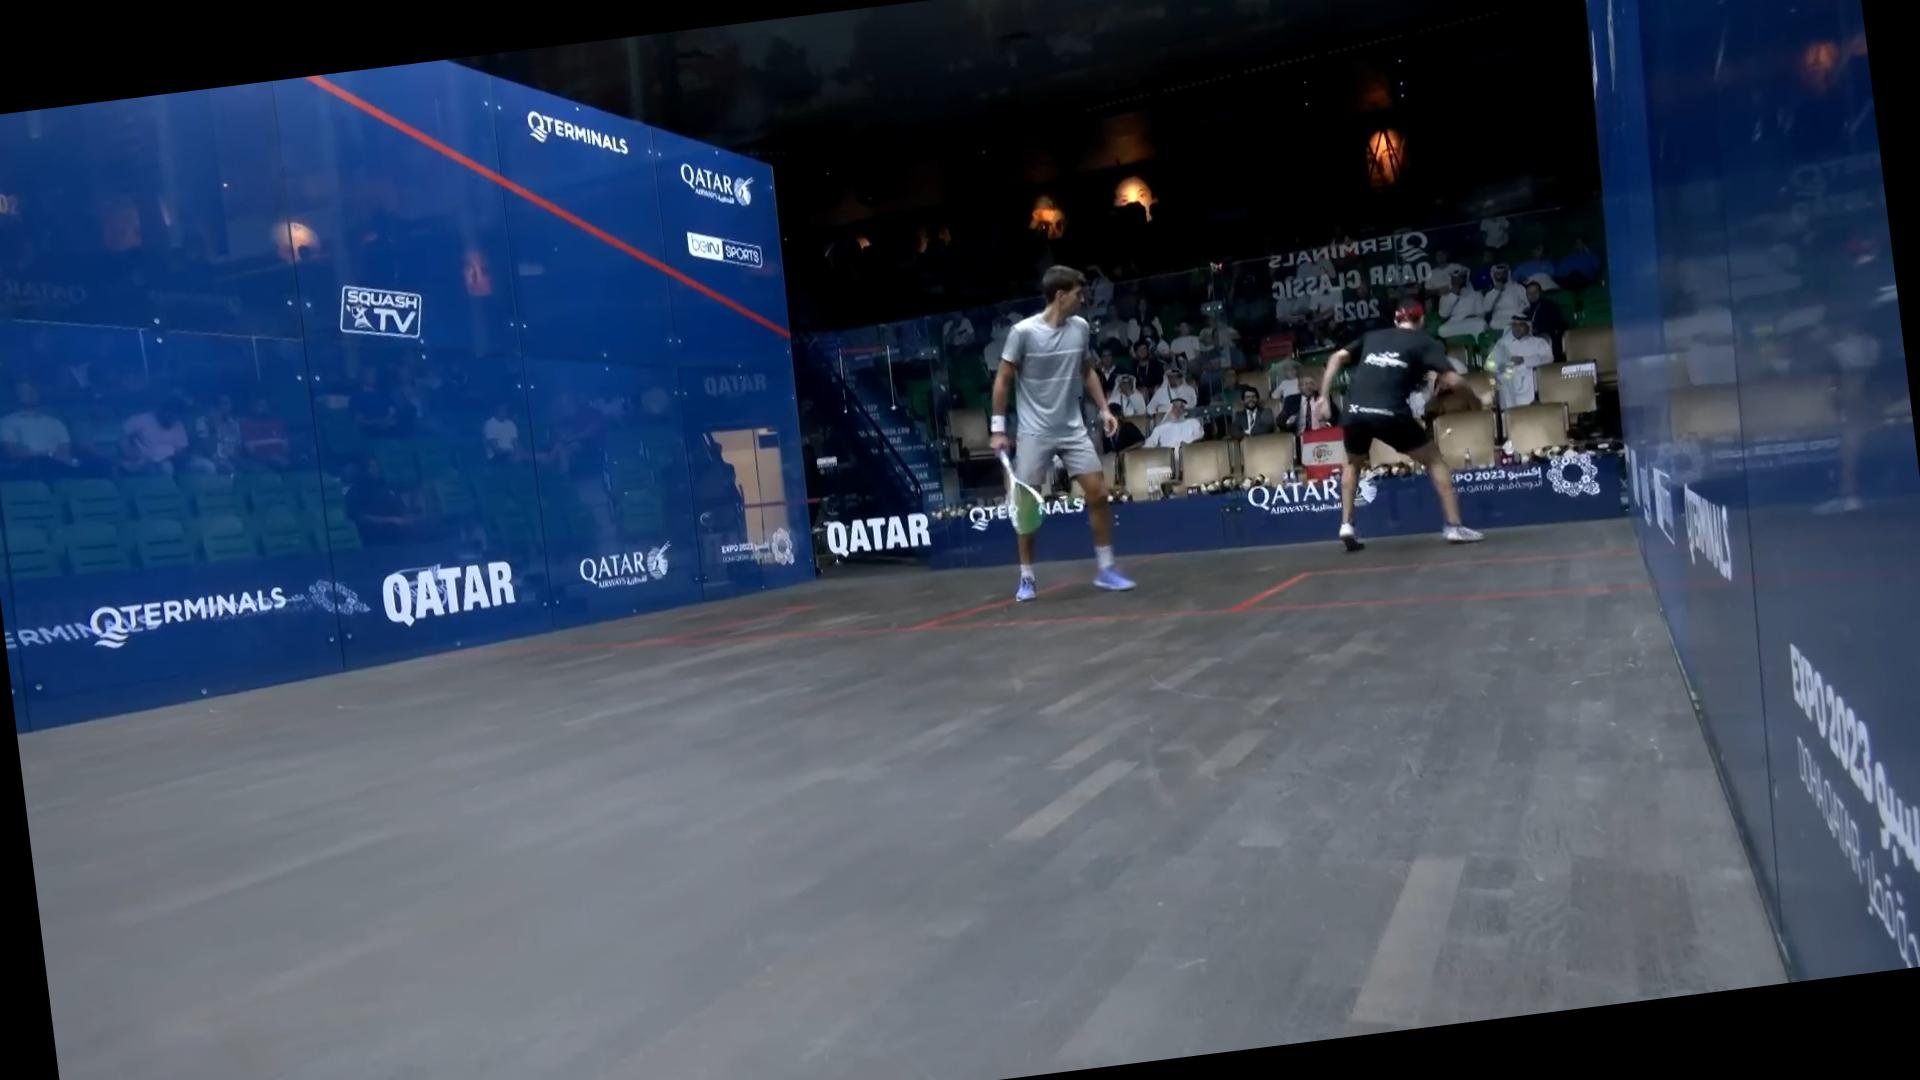Racket: (988, 443, 1054, 541)
